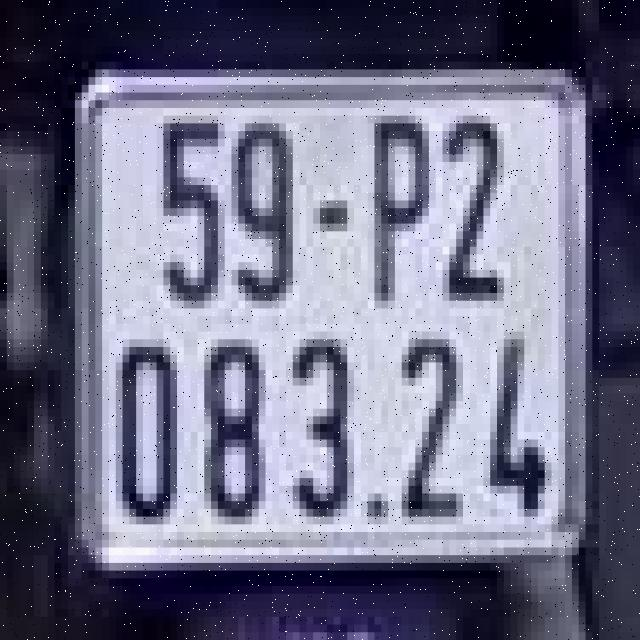0: (112, 336, 180, 528)
2: (432, 108, 508, 332), (392, 324, 473, 524)
3: (279, 332, 354, 532)
4: (487, 320, 562, 528)
5: (153, 112, 228, 328)
8: (198, 335, 266, 536)
9: (225, 100, 306, 324)
P: (364, 100, 446, 316)
